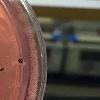black: (16, 56, 24, 64), (0, 65, 4, 72)
